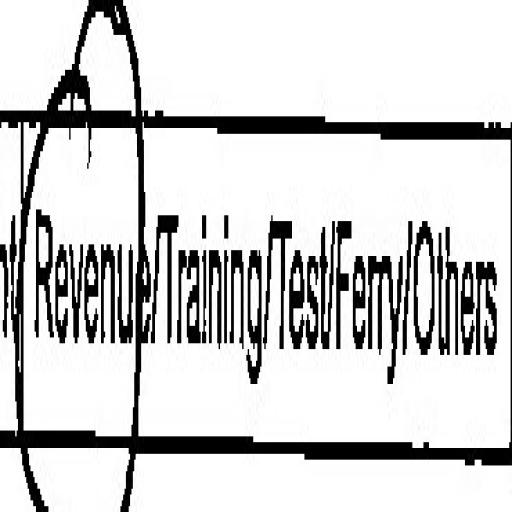check: (10, 0, 156, 512)
